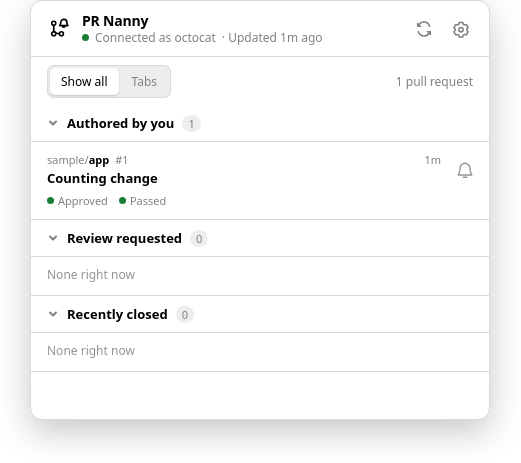
snapshot sync cadence › ignores a stale poll that resolves after a newer bell change
Click the button named "Turn notifications on" at (465, 170), box [449,154,481,186]
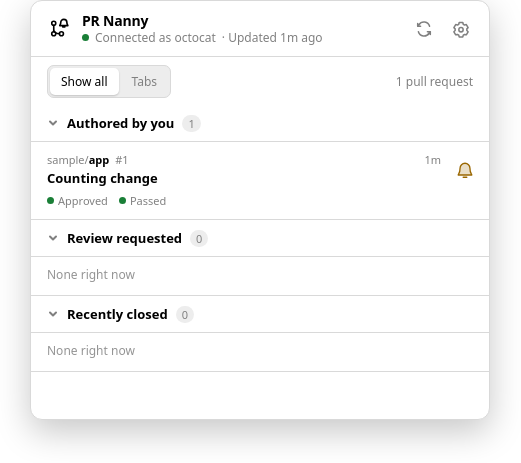
Expected: the button named "Turn notifications off" is shown, [449,154,481,186]
